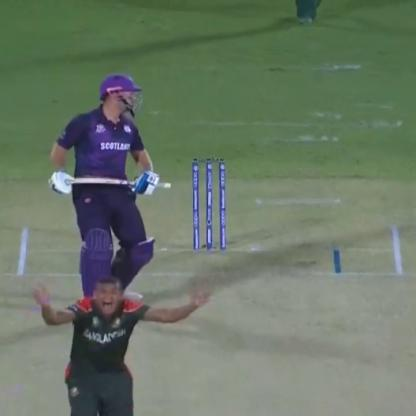bat: (52, 175, 175, 192)
pitch: (0, 221, 414, 415)
